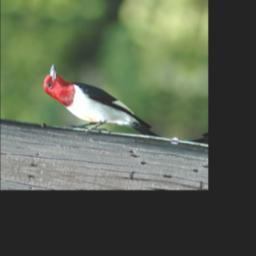Woodpecker: (33, 61, 178, 149)
